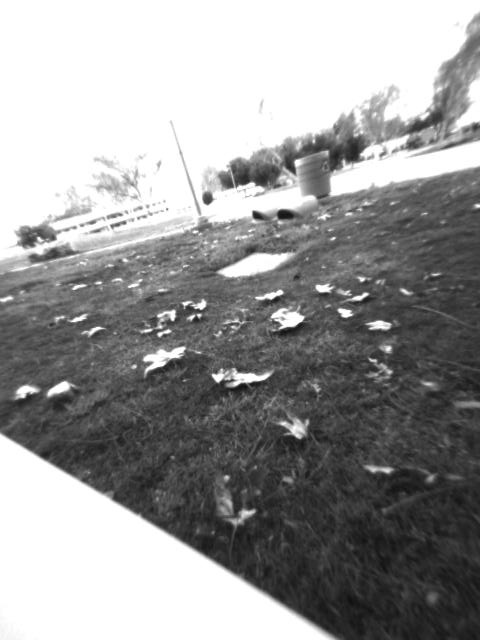trashcan: (293, 146, 334, 204)
